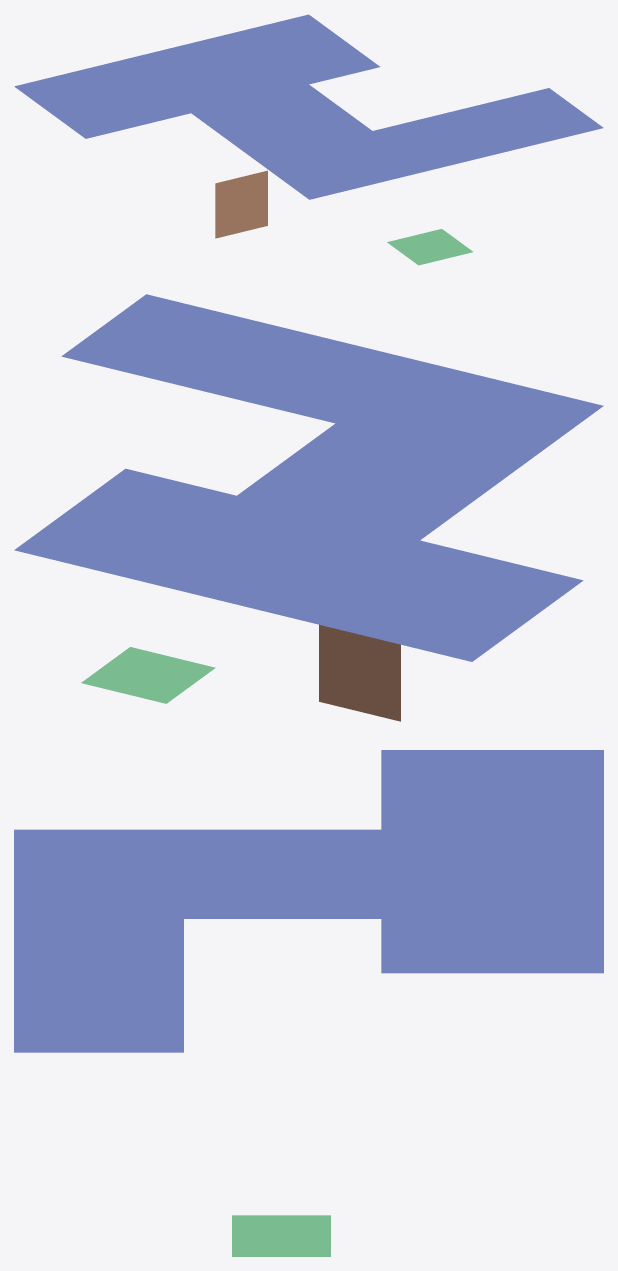
File: 3floor_edit.fbx
3 renders of one model, top to bottom at view 1: azimuth 30°, elevation 25°; view 2: azimuth 150°, elevation 25°; view 3: azimuth 270°, elevation 25°, orthographic. The views are drawn at different scales.
Visible parts, largest first — view 1: Cube, Cube.002, Cube.001; view 2: Cube, Cube.002, Cube.001; view 3: Cube, Cube.001.
Part boxes in pixels (box(x1,y1,x2,y2)): Cube: box(14, 14, 603, 199); Cube.002: box(215, 170, 267, 238); Cube.001: box(387, 229, 472, 265); Cube: box(14, 294, 603, 661); Cube.002: box(319, 624, 400, 721); Cube.001: box(81, 647, 215, 703); Cube: box(14, 750, 603, 1052); Cube.001: box(232, 1215, 330, 1256).
Size of the model in its own units: 1513 by 582 by 1246.
